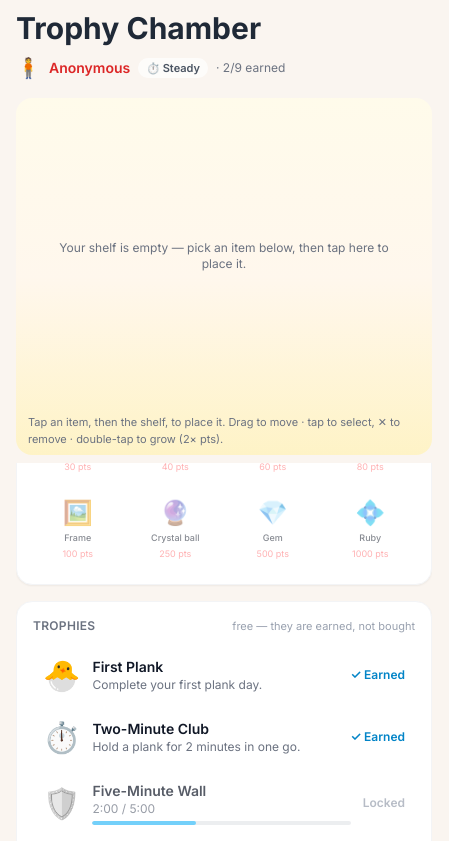
Test: Chamber page › treats a tiny pointer wiggle as a tap, not a drag
The image size is (449, 841).
(page scrolled)
Click the button "First Plank": (224, 674) [33,646,415,702]
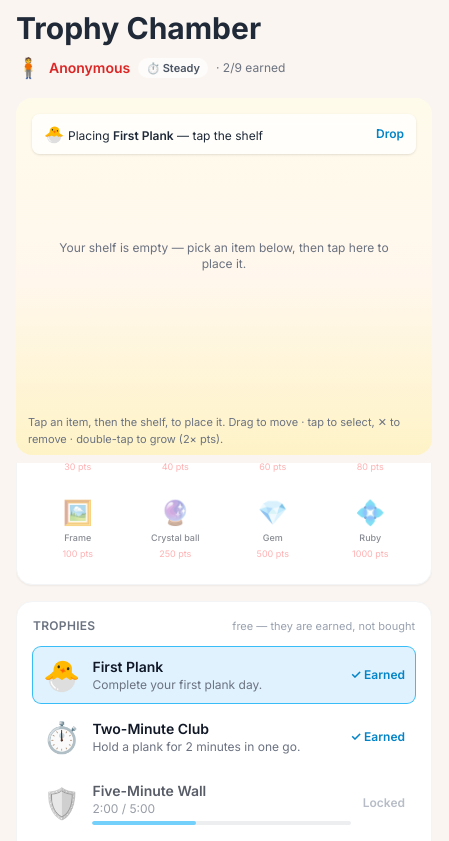
Click the element "shelf": (224, 134) [32,114,416,271]
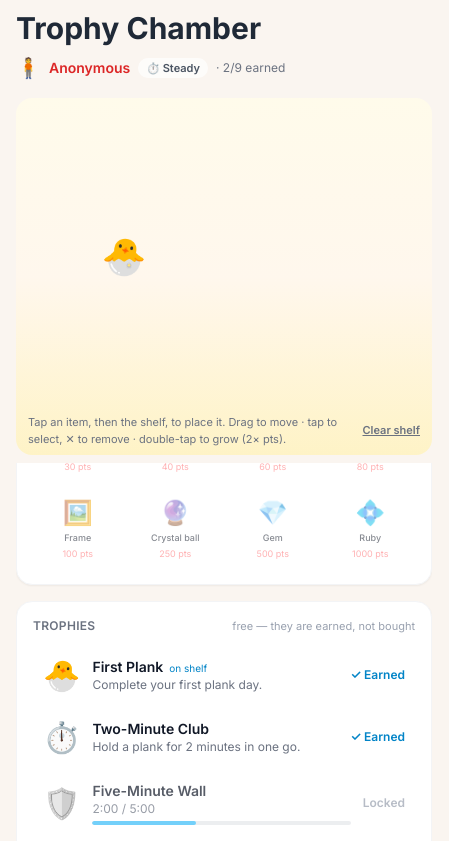
Press the mouse on the button named "First Plank on the shelf": (124, 256) [102,238,146,274]
Click the button named "First Plank on the shelf": (124, 256) [102,238,146,274]
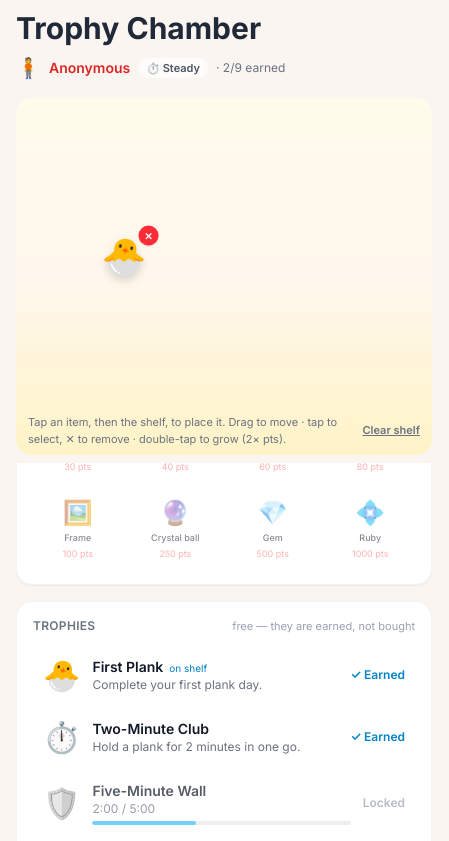
Check: the button named "Remove First Plank" is shown, box [138,226,158,246]
